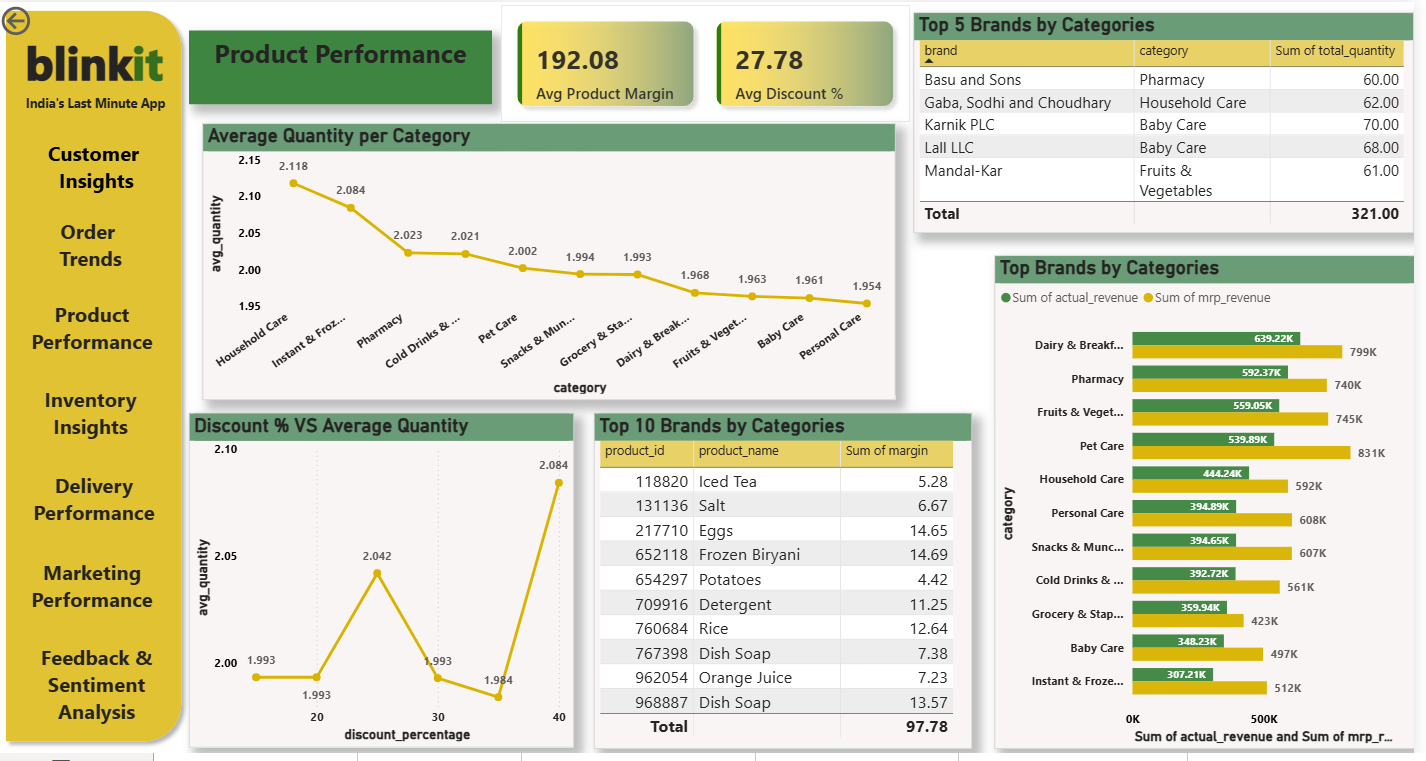

This screenshot's page, from the dashboard's own definition file:
{"tool":"powerbi","page":{"name":"Product Performance","canvas":[1500,800],"ordinal":2},"visuals":[{"type":"shape","box":[0,0,204.1,791.4],"z":0},{"type":"textbox","box":[16,24.8,173.9,74.5],"z":1000},{"type":"textbox","box":[19.5,92.3,170.3,30.2],"z":2000},{"type":"textbox","box":[7.1,140.2,191.6,81.6],"z":3000},{"type":"actionButton","box":[8.9,134.9,186.3,81.6],"z":4000},{"type":"textbox","box":[3.5,221.8,191.6,71],"z":5000},{"type":"actionButton","box":[8.9,221.8,186.3,71],"z":6000},{"type":"textbox","box":[5.3,308.8,191.6,71],"z":7000},{"type":"actionButton","box":[10.6,308.8,188.1,71],"z":8000},{"type":"textbox","box":[3.5,399.3,191.6,71],"z":9000},{"type":"actionButton","box":[5.3,404.6,189.9,65.7],"z":10000},{"type":"textbox","box":[6.4,489.9,192.5,71.6],"z":11000},{"type":"actionButton","box":[7.1,489.8,186.3,71],"z":12000},{"type":"textbox","box":[5.3,582,191.6,71],"z":13000},{"type":"actionButton","box":[7.1,582,186.3,71],"z":14000},{"type":"textbox","box":[8.9,672.5,191.6,99.4],"z":15000},{"type":"actionButton","box":[9.3,672.2,188.9,100],"z":16000},{"type":"textbox","box":[203.7,29.6,320.4,77.8],"z":17000},{"type":"cardVisual","fields":{"Data":["blinkit products.Avg Product Margin","blinkit products.Discount Effect"]},"box":[533.3,3.7,433.3,124.1],"z":18000},{"type":"tableEx","title":"Top 5 Brands by Categories","fields":{"Values":["blinkit top_categories_brands.brand","blinkit top_categories_brands.category","Sum(blinkit top_categories_brands.total_quantity)"]},"box":[970.4,11.1,529.6,233.3],"z":19000},{"type":"lineChart","title":"Average Quantity per Category","fields":{"Y":["Sum(blinkit avg_quantity_per_category.avg_quantity)"],"Category":["blinkit avg_quantity_per_category.category"]},"box":[216.7,127.8,733.3,292.6],"z":20000},{"type":"clusteredBarChart","title":"Top Brands by Categories","fields":{"Category":["blinkit revenue_vs_mrp_by_category.category"],"Y":["Sum(blinkit revenue_vs_mrp_by_category.actual_revenue)","Sum(blinkit revenue_vs_mrp_by_category.mrp_revenue)"]},"box":[1055.6,268.5,444.4,522.2],"z":21000},{"type":"lineChart","title":"Discount % VS Average Quantity","fields":{"Y":["Avg(blinkit discount_vs_quantity.avg_quantity)"],"Category":["blinkit discount_vs_quantity.discount_percentage"]},"box":[203.7,435.2,407.4,353.7],"z":22000},{"type":"tableEx","title":"Top 10 Brands by Categories","fields":{"Values":["blinkit top_margin_products.product_id","blinkit top_margin_products.product_name","Sum(blinkit top_margin_products.margin)"]},"box":[631.5,435.2,400,355.6],"z":23000},{"type":"actionButton","box":[0,0,100,40],"z":24000}]}

Visuals, with their boxes in screenshot pixels (x1, y1, x2, y2), scaled from the page's 1500x800 canvas onto the 1426x761 screenshot:
shape: 0/0/194/753
textbox: 15/24/181/94
textbox: 19/88/180/117
textbox: 7/133/189/211
actionButton: 8/128/186/206
textbox: 3/211/185/279
actionButton: 8/211/186/279
textbox: 5/294/187/361
actionButton: 10/294/189/361
textbox: 3/380/185/447
actionButton: 5/385/186/447
textbox: 6/466/189/534
actionButton: 7/466/184/533
textbox: 5/554/187/621
actionButton: 7/554/184/621
textbox: 8/640/191/734
actionButton: 9/639/188/735
textbox: 194/28/498/102
cardVisual - blinkit products.Avg Product Margin x blinkit products.Discount Effect: 507/4/919/122
"Top 5 Brands by Categories" tableEx: 923/11/1425/232
"Average Quantity per Category" lineChart: 206/122/903/400
"Top Brands by Categories" clusteredBarChart: 1004/255/1425/752
"Discount % VS Average Quantity" lineChart: 194/414/581/750
"Top 10 Brands by Categories" tableEx: 600/414/981/752
actionButton: 0/0/95/38
